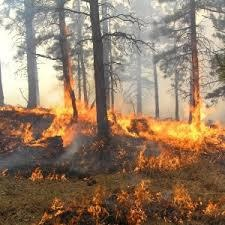fire: (28, 164, 66, 181)
